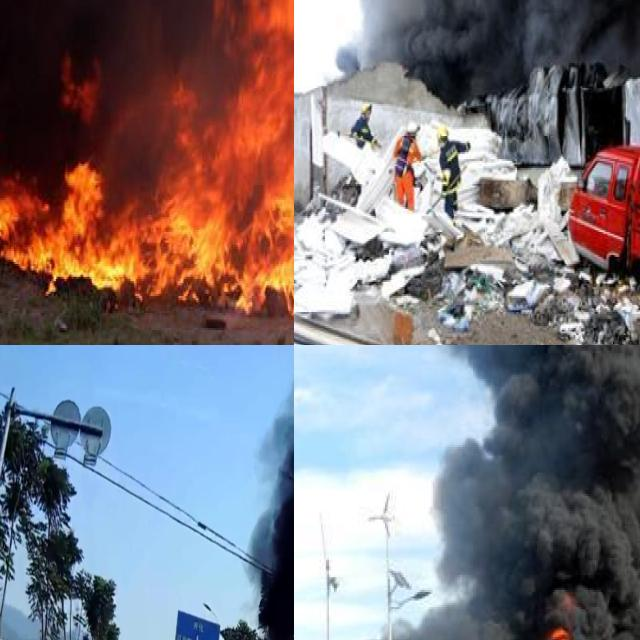fire: (14, 0, 294, 338)
smoke: (294, 345, 640, 640), (333, 0, 640, 111)
